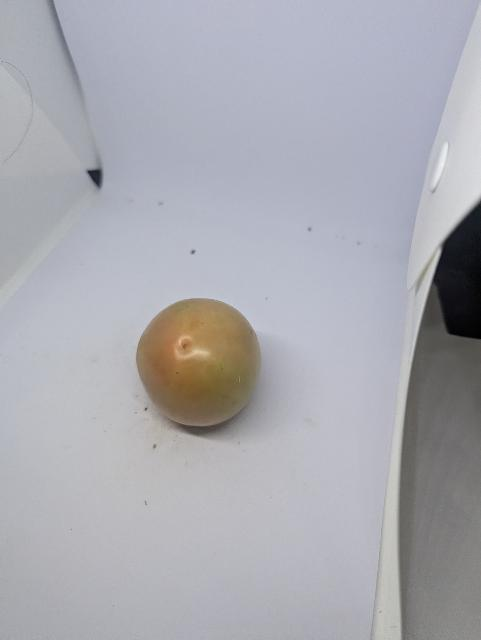turning: (130, 291, 270, 438)
